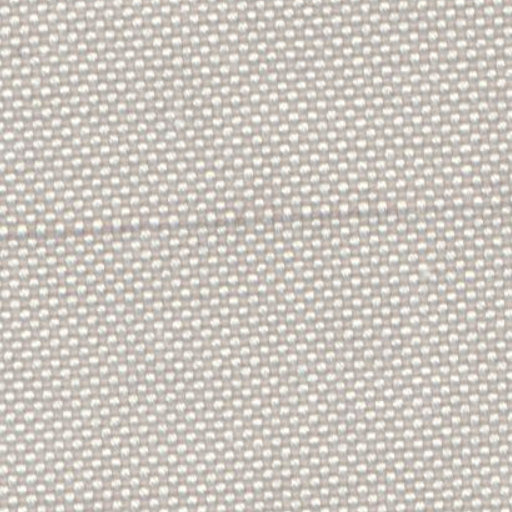TuoSha: (6, 186, 496, 258)
